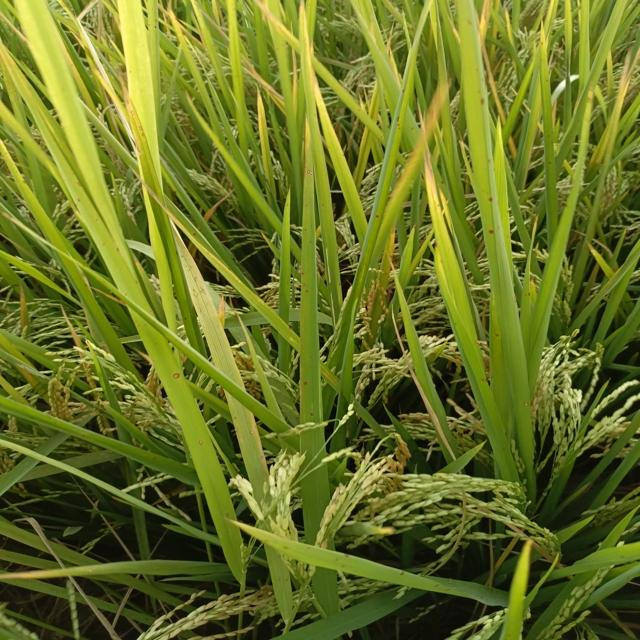insects: (300, 266, 310, 297), (303, 167, 316, 180), (169, 370, 183, 382), (485, 226, 497, 238), (477, 95, 488, 108), (481, 373, 492, 386), (308, 408, 320, 419), (493, 328, 502, 341), (486, 195, 495, 206), (301, 379, 311, 388)
